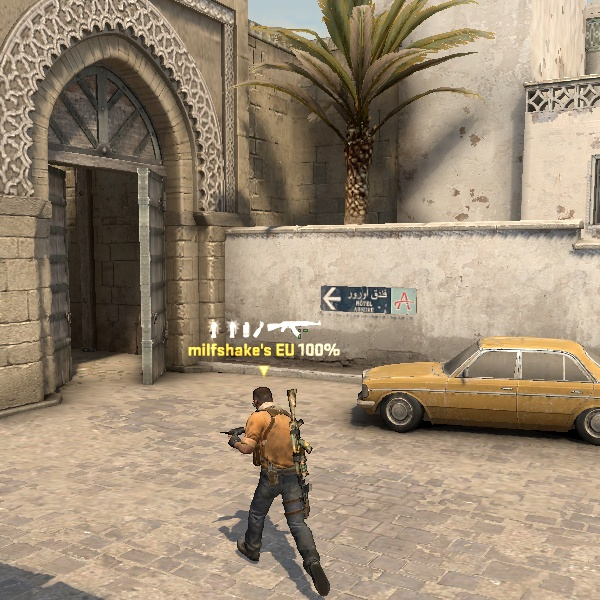t_body: (213, 376, 330, 588)
t_head: (243, 380, 283, 420)
